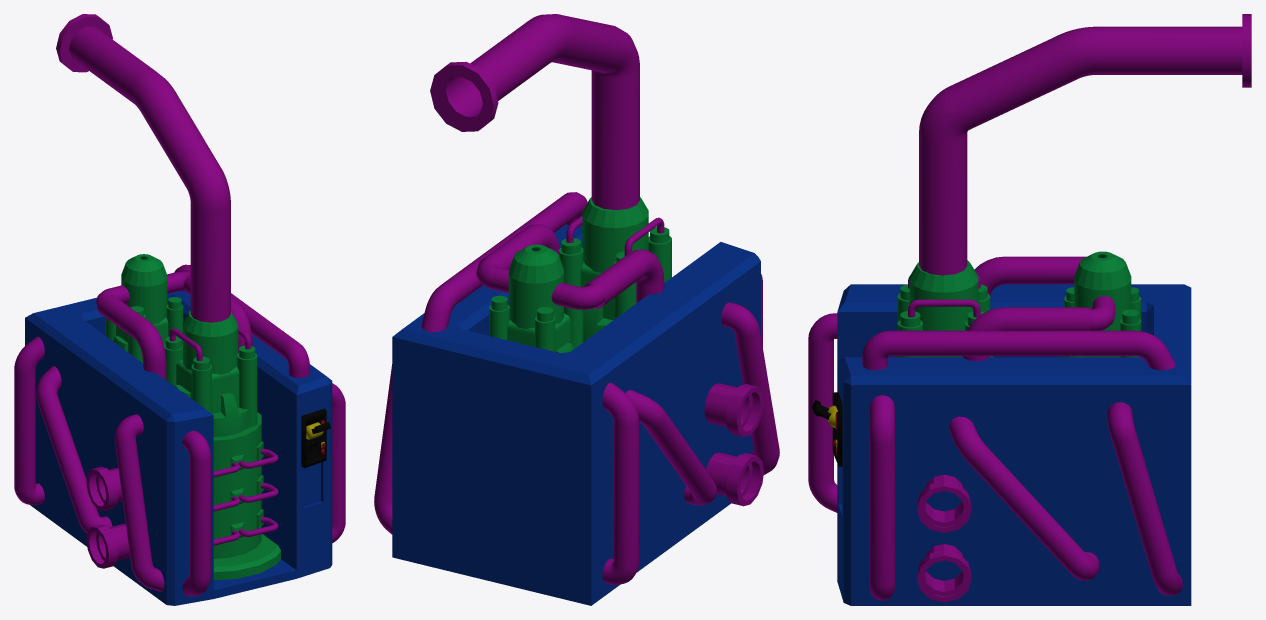
The model's file is machine1.FBX.
3 views of the same model, side by side, from view 1: azimuth 30°, elevation 25°; view 2: azimuth 150°, elevation 25°; view 3: azimuth 270°, elevation 25° (orthographic). The views are drawn at different scales.
Visible parts, largest first — view 1: Plane006; view 2: Plane006; view 3: Plane006.
Part boxes in pixels (x1=…): Plane006: x1=14, y1=14, x2=345, y2=605; Plane006: x1=374, y1=14, x2=779, y2=605; Plane006: x1=808, y1=14, x2=1251, y2=605.
Bounding box in the file's own units: 42.55 × 81.41 × 60.61.
